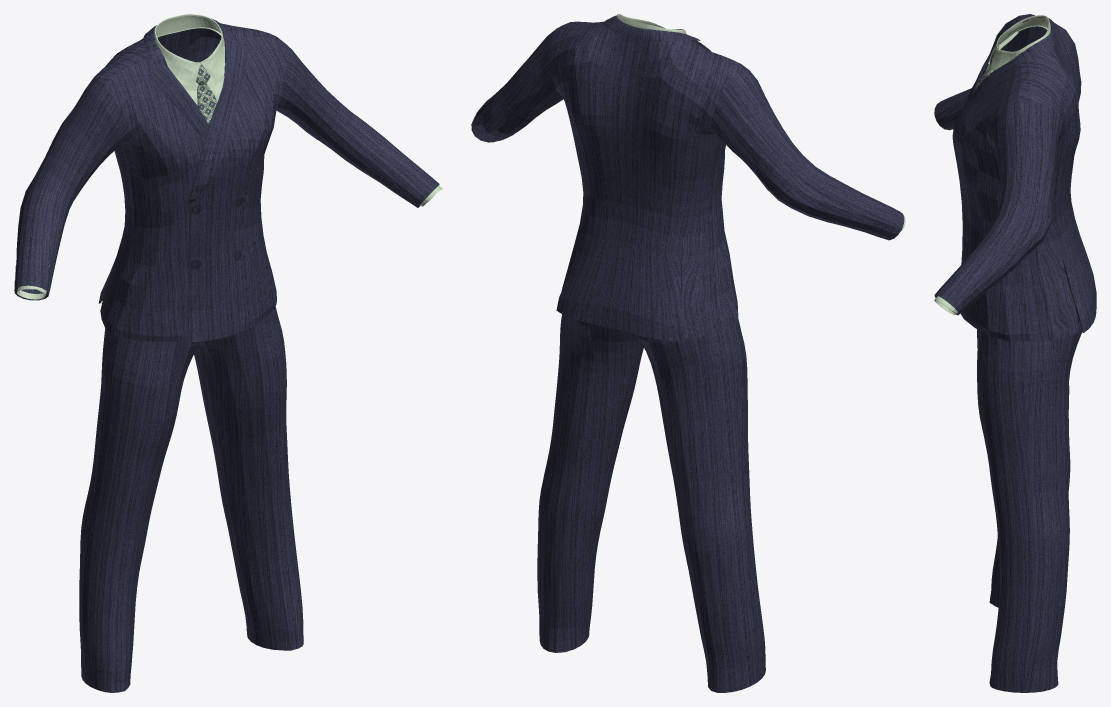
File: garment.glb
3 views of the same model, side by side, from view 1: azimuth 30°, elevation 25°; view 2: azimuth 150°, elevation 25°; view 3: azimuth 270°, elevation 25° (orthographic). The views are drawn at different scales.
Visible parts, largest first — view 1: garment; view 2: garment; view 3: garment.
Part boxes in pixels (x1,y1,x2,y2): garment: (14,14,442,692); garment: (471,14,905,692); garment: (934,14,1096,692).
Size of the model in its own units: 10.18 by 14.57 by 3.45.
Materials: 1 (1 with a texture image).
